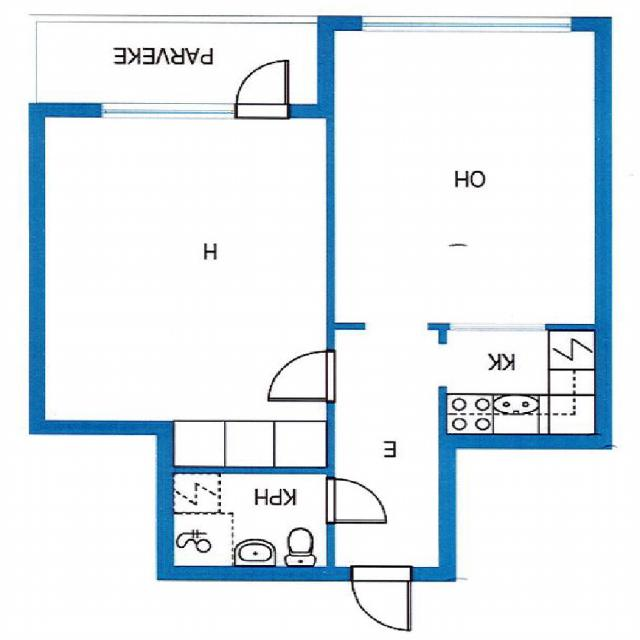door: (352, 566, 410, 631), (269, 351, 334, 401), (237, 60, 287, 117), (327, 478, 385, 522)
